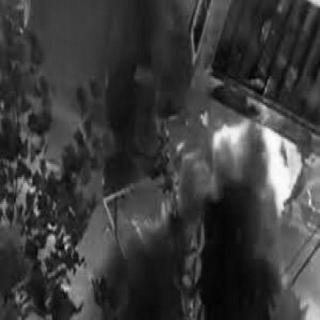Fire: (202, 108, 252, 190), (260, 130, 296, 228), (138, 193, 172, 236)
Smoke: (199, 200, 277, 318), (109, 222, 185, 314)
